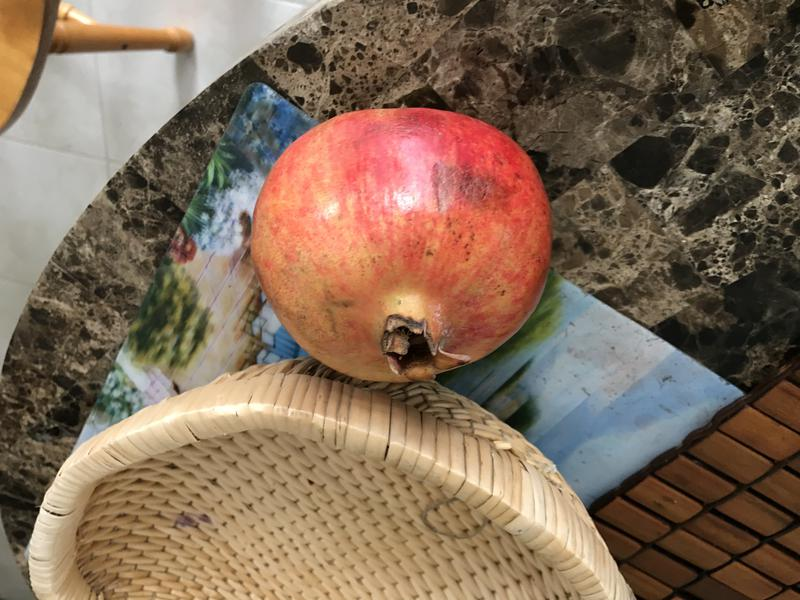pomegranate: (239, 96, 564, 402)
